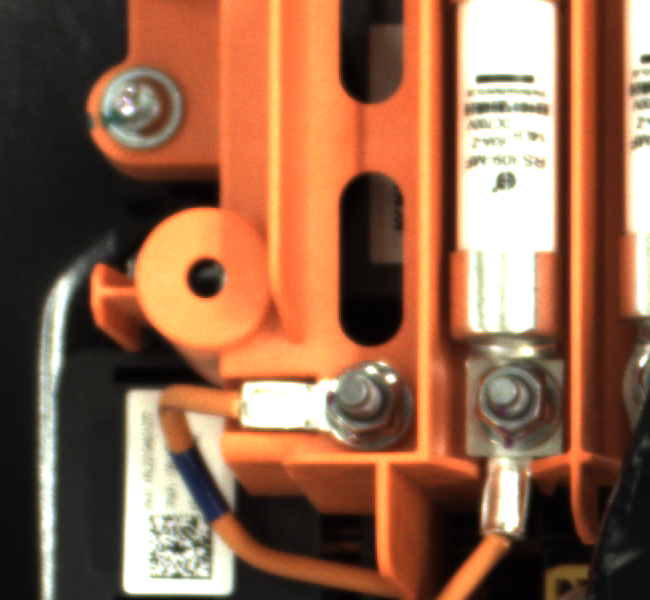screw_m: (94, 65, 197, 160)
screw_s: (446, 353, 557, 448), (321, 354, 411, 442)
